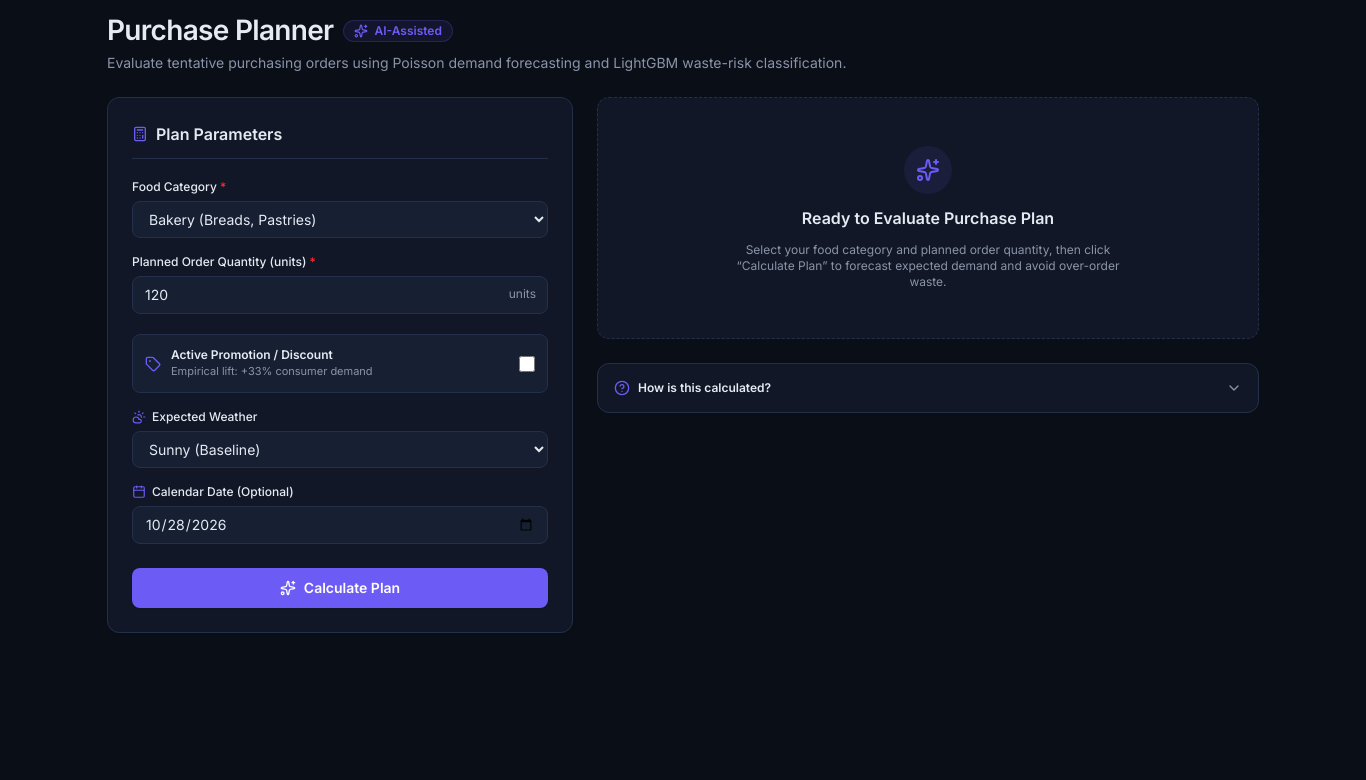
Test case: AI Waste Predictions & Benchmark Insights (Task 3) › BusinessPurchasePlannerPage › toggles the "How is this calculated?" explanatory panel
The image size is (1366, 780).
Check: the text "generalized linear poisson regression" is not shown
# Click to open
Click the button "How is this calculated?" at (705, 388), box [598,364,1258,412]
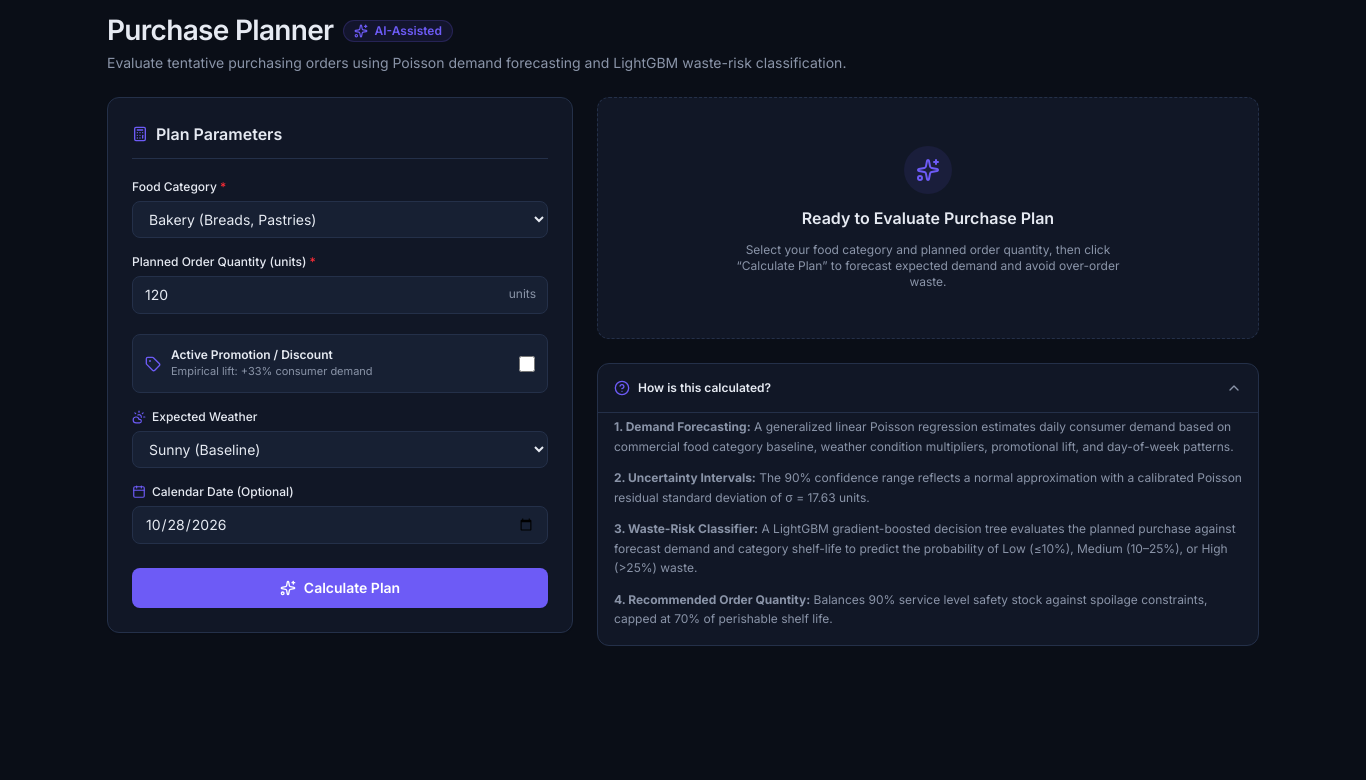
Check: the text "generalized linear Poisson regression" is shown, box [614,419,1234,454]
Check: the text "LightGBM gradient-boosted decision tree" is shown, box [614,521,1236,575]
Check: the text "70% of perishable shelf life" is shown, box [614,592,1208,626]
# Click to close
Click the button "How is this calculated?" at (705, 388), box [598,364,1258,412]
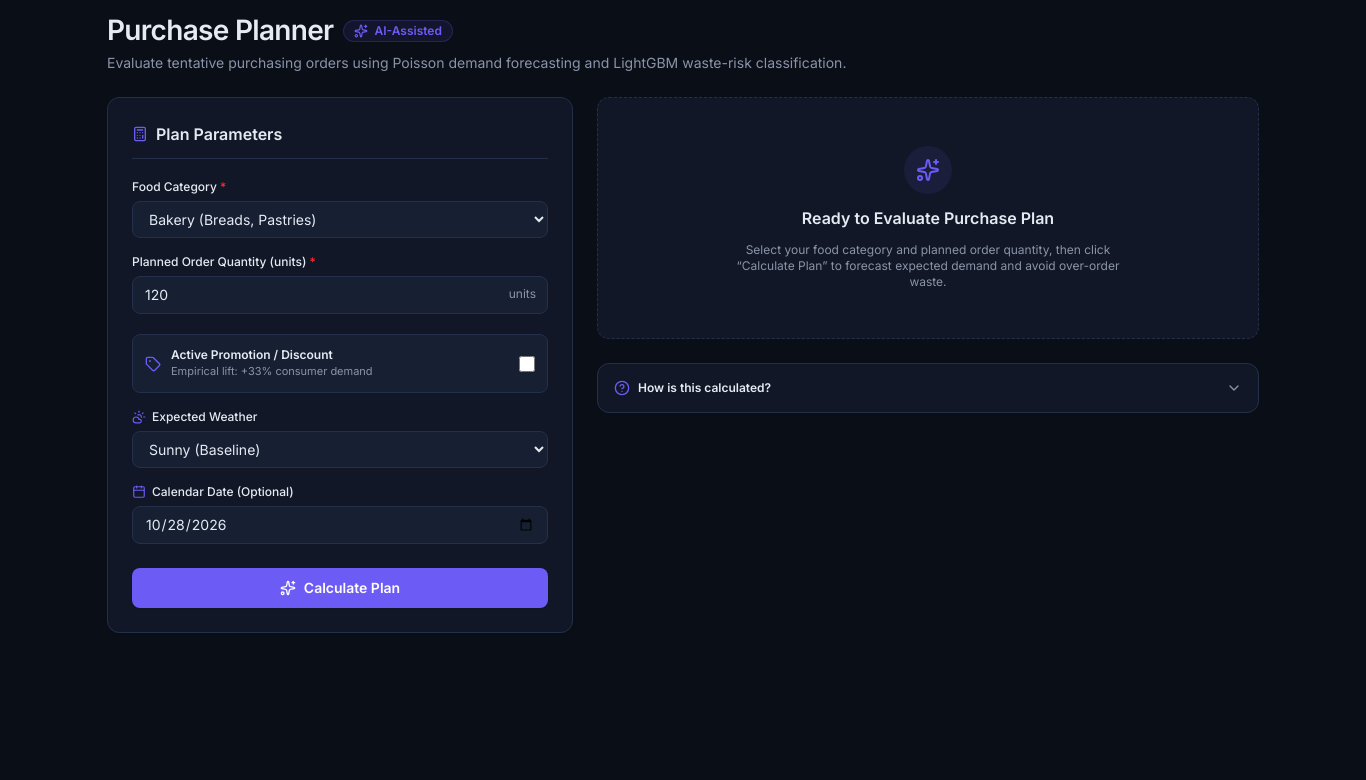
Check: the text "generalized linear Poisson regression" is gone
